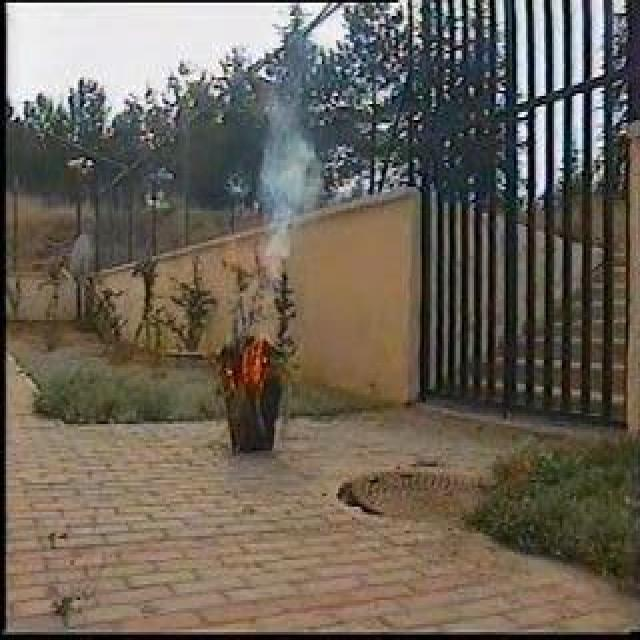fire: (240, 339, 270, 384)
smoke: (238, 75, 326, 256)
